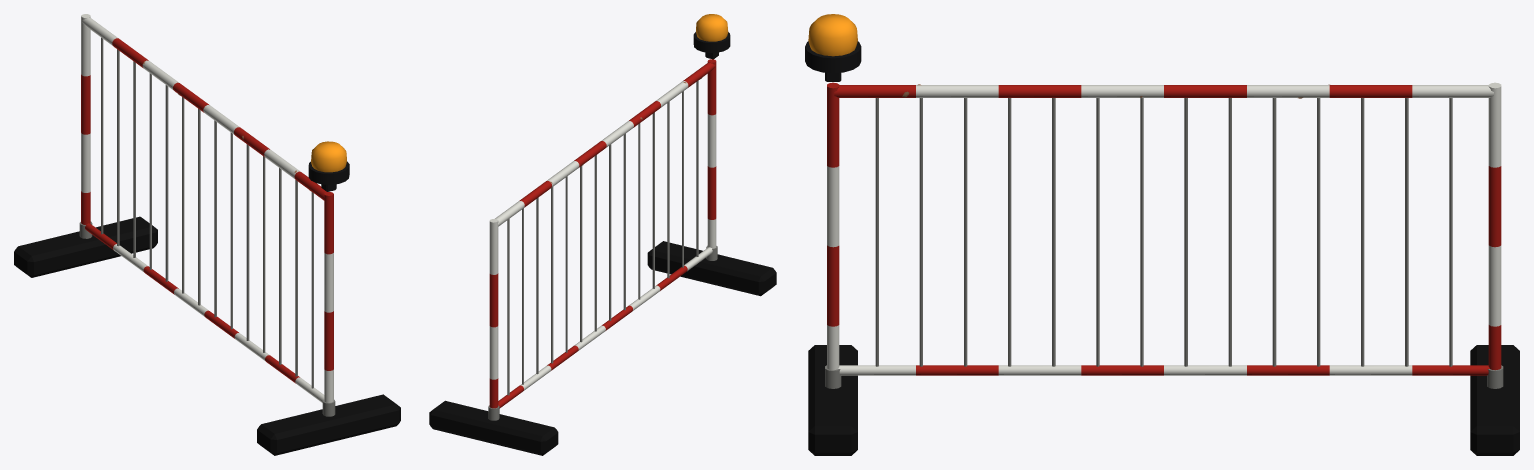
The model's file is site_barrier.glb.
The picture shows the model from 3 angles, left to right: view 1: azimuth 30°, elevation 25°; view 2: azimuth 150°, elevation 25°; view 3: azimuth 270°, elevation 25°; orthographic projection. The views are drawn at different scales.
Parts seen in each view (by area): view 1: teil2, teil3, teil1, teil0, teil7, teil6; view 2: teil2, teil3, teil0, teil1, teil7, teil6; view 3: teil2, teil0, teil1, teil3, teil7, teil6.
Boxes of the visible parts, x1,y1,x2,y2 form: teil2: (79,37,335,416); teil3: (14,216,400,455); teil1: (81,38,333,383); teil0: (81,14,333,402); teil7: (311,141,346,172); teil6: (308,161,349,184); teil2: (488,80,717,420); teil3: (429,241,776,455); teil0: (489,81,716,390); teil1: (489,59,716,408); teil7: (696,14,728,41); teil6: (693,32,730,52); teil2: (825,98,1503,388); teil0: (827,82,1501,375); teil1: (827,82,1501,375); teil3: (808,345,1519,455); teil7: (808,14,857,56); teil6: (805,41,861,73).
Bounding box in the file's own units: 0.62 × 1.32 × 2.16.
